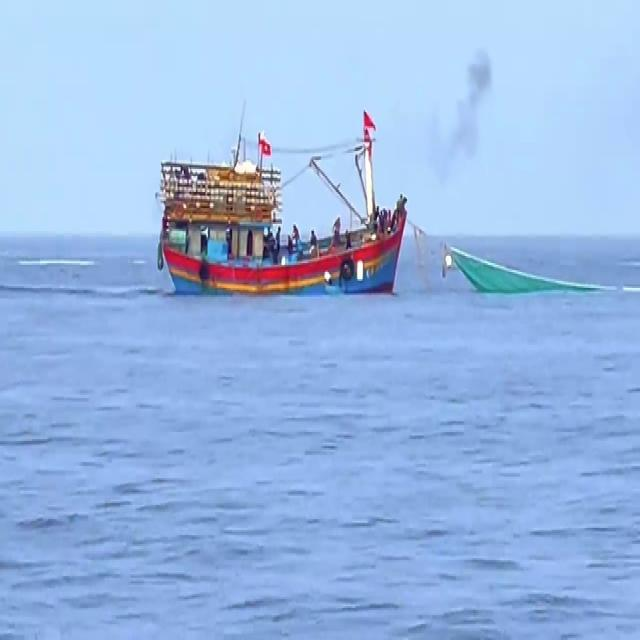Ship: (160, 119, 406, 307)
